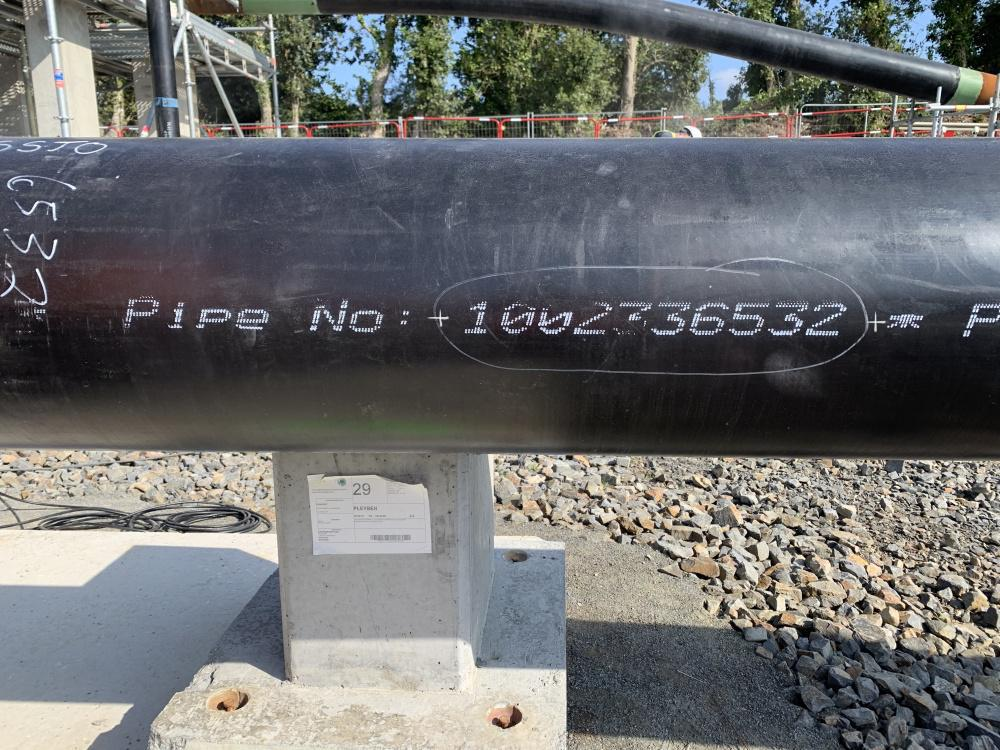+: (861, 311, 887, 336), (426, 308, 450, 327)
0: (503, 298, 534, 336), (539, 304, 573, 336), (349, 309, 383, 334)
1: (465, 298, 489, 338)
2: (576, 300, 611, 338), (812, 302, 848, 338)
3: (615, 300, 652, 338), (656, 298, 689, 340), (774, 303, 808, 338)
5: (733, 300, 768, 336)
6: (694, 300, 728, 336)
E: (236, 309, 268, 331)
I: (170, 301, 186, 330)
N: (310, 298, 347, 334)
P: (962, 300, 1000, 340), (120, 295, 159, 331), (198, 308, 232, 330)
